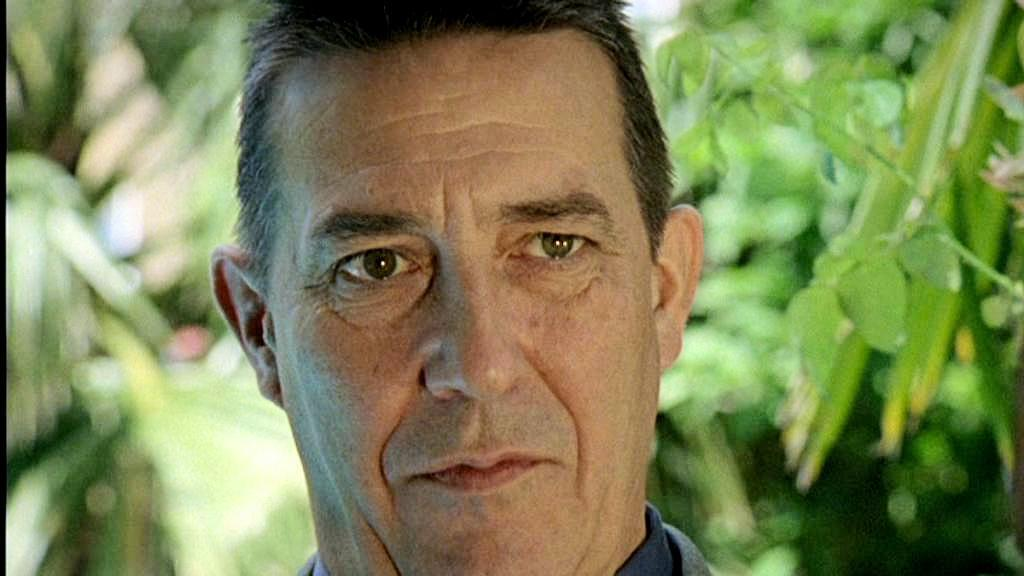face: (275, 51, 655, 575)
